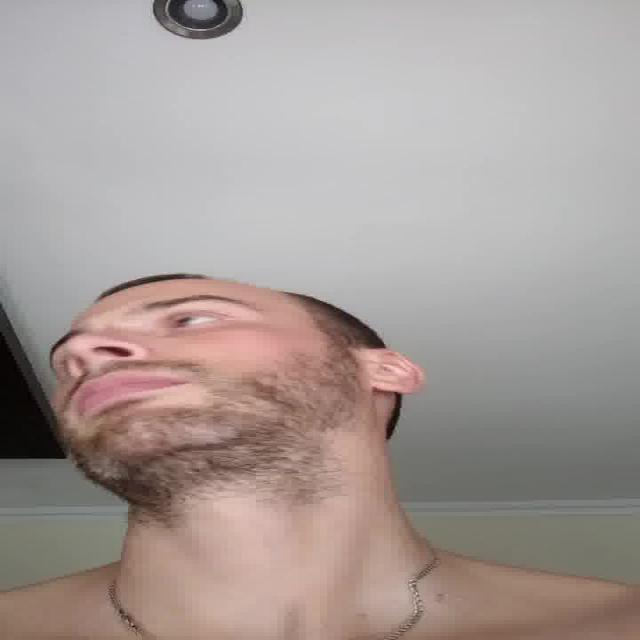earlobe: (369, 381, 422, 393)
eye: (168, 313, 234, 331)
nose: (65, 357, 148, 380)
wholeear: (366, 348, 425, 394)
